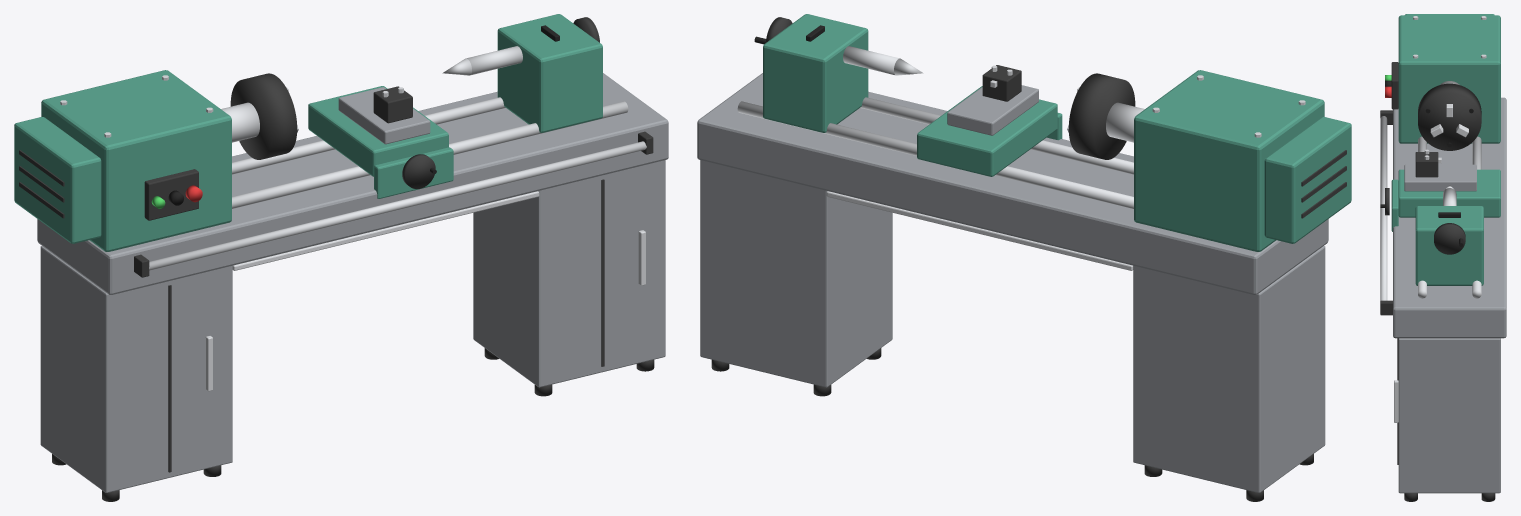
Rendered from СтанокDLSS.fbx.
3 renders of one model, left to right at view 1: azimuth 30°, elevation 25°; view 2: azimuth 150°, elevation 25°; view 3: azimuth 270°, elevation 25°, orthographic. The views are drawn at different scales.
Parts seen in each view (by area): view 1: Tumba_0, Tumba_1, Stanina, Perednyaya_Babka, Zadnyaya_Babka, Kozhuh_Privoda, Hodovoy_Vint, Karetka, Patron, Napravlyayushaya_1, Poperechny_Suport, Napravlyayushaya_2 (+9 smaller); view 2: Tumba_0, Stanina, Tumba_1, Perednyaya_Babka, Zadnyaya_Babka, Kozhuh_Privoda, Karetka, Patron, Napravlyayushaya_2, Poperechny_Suport, Napravlyayushaya_1, Poddon (+3 smaller); view 3: Tumba_1, Stanina, Perednyaya_Babka, Zadnyaya_Babka, Patron, Karetka, Poperechny_Suport, Hodovoy_Vint, Mahovik_Zadnei, Rezcederzhatel, Napravlyayushaya_2, Fartuk (+7 smaller).
Boxes of the visible parts, left/top/right/bottom form: Tumba_0: left=40, top=246, right=232, bottom=492; Tumba_1: left=473, top=160, right=665, bottom=387; Stanina: left=37, top=73, right=668, bottom=294; Perednyaya_Babka: left=41, top=70, right=231, bottom=251; Zadnyaya_Babka: left=497, top=14, right=602, bottom=132; Kozhuh_Privoda: left=14, top=117, right=101, bottom=243; Hodovoy_Vint: left=149, top=141, right=646, bottom=270; Karetka: left=308, top=86, right=448, bottom=176; Patron: left=230, top=73, right=297, bottom=159; Napravlyayushaya_1: left=232, top=101, right=628, bottom=208; Poperechny_Suport: left=338, top=87, right=430, bottom=144; Napravlyayushaya_2: left=232, top=97, right=505, bottom=174; Tumba_0: left=1133, top=246, right=1325, bottom=492; Stanina: left=697, top=73, right=1328, bottom=294; Tumba_1: left=700, top=160, right=892, bottom=387; Perednyaya_Babka: left=1134, top=70, right=1324, bottom=251; Zadnyaya_Babka: left=763, top=14, right=868, bottom=132; Kozhuh_Privoda: left=1264, top=117, right=1351, bottom=243; Karetka: left=917, top=86, right=1057, bottom=176; Patron: left=1068, top=73, right=1135, bottom=159; Napravlyayushaya_2: left=737, top=101, right=1133, bottom=208; Poperechny_Suport: left=947, top=85, right=1038, bottom=135; Napravlyayushaya_1: left=860, top=97, right=1133, bottom=174; Poddon: left=826, top=191, right=1133, bottom=270; Tumba_1: left=1398, top=338, right=1500, bottom=493; Stanina: left=1393, top=97, right=1506, bottom=338; Perednyaya_Babka: left=1398, top=15, right=1500, bottom=143; Zadnyaya_Babka: left=1415, top=206, right=1483, bottom=285; Patron: left=1418, top=83, right=1481, bottom=150; Karetka: left=1398, top=169, right=1500, bottom=217; Poperechny_Suport: left=1404, top=164, right=1476, bottom=191; Hodovoy_Vint: left=1380, top=116, right=1387, bottom=300; Mahovik_Zadnei: left=1434, top=223, right=1465, bottom=254; Rezcederzhatel: left=1415, top=152, right=1438, bottom=177; Napravlyayushaya_2: left=1472, top=136, right=1481, bottom=298; Fartuk: left=1391, top=179, right=1398, bottom=231.
Bounding box in the file's own units: 232 × 136 × 55.5.
